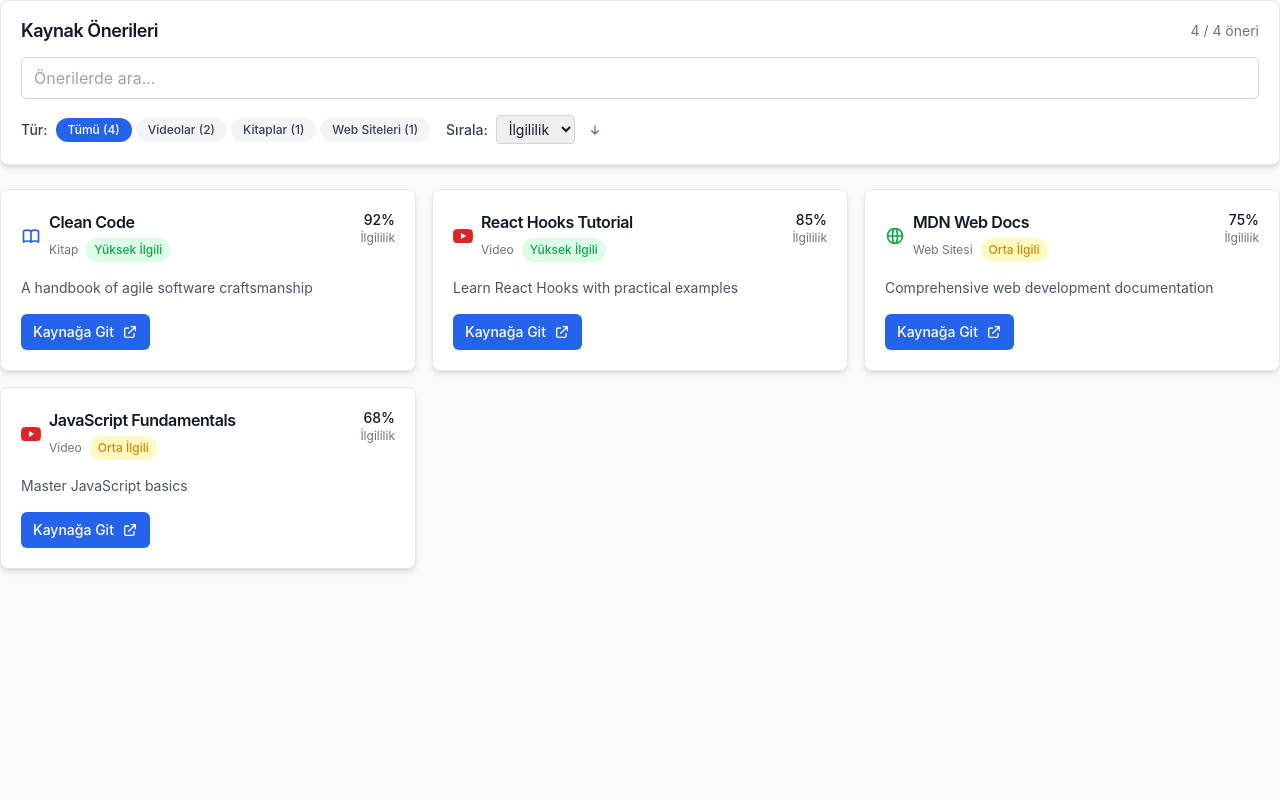
RecommendationList › clears filters when no results found
# Apply search that returns no results
Step 1. Type "nonexistent" into the field with placeholder "Önerilerde ara..." → (640, 78), box [21, 57, 1259, 99]
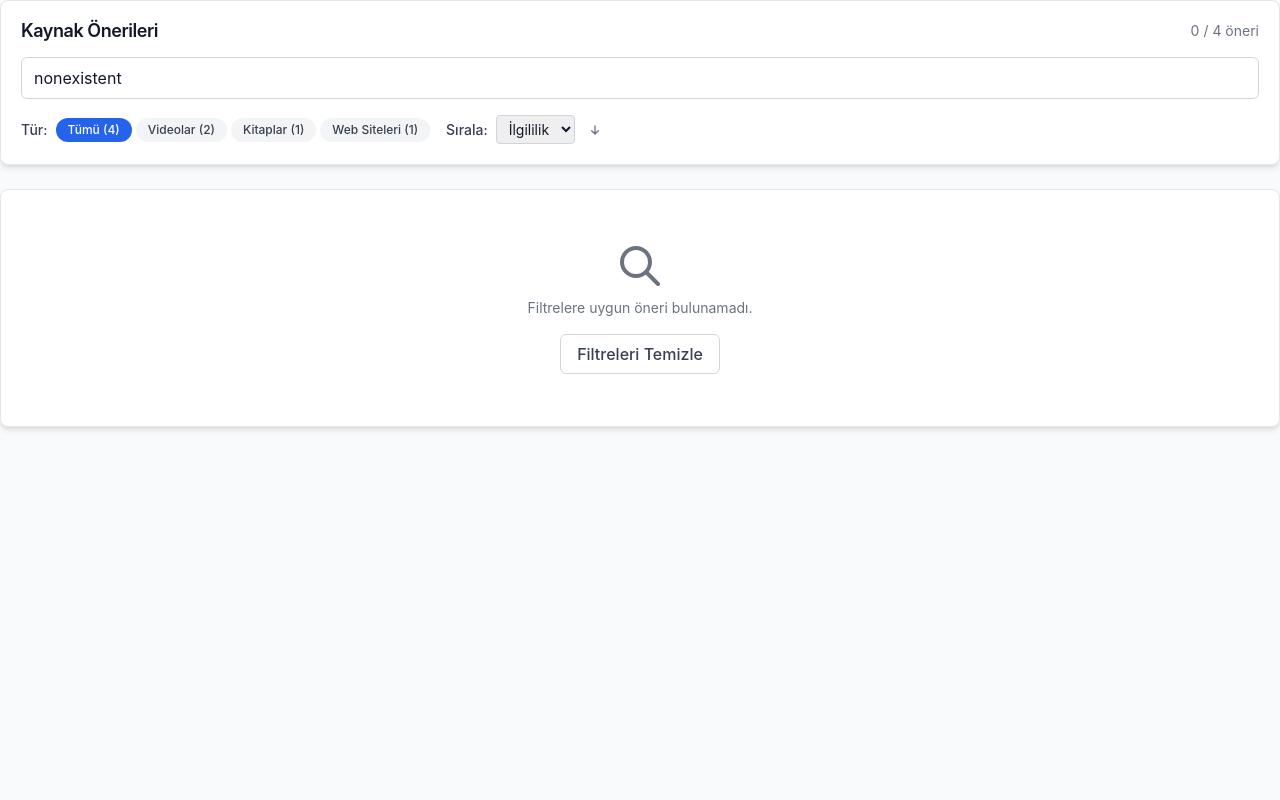
Expected: the text "Filtrelere uygun öneri bulunamadı." is shown, [528, 299, 752, 316]
# Click clear filters
Step 2. Click the button "Filtreleri Temizle" → (640, 354), box [560, 334, 720, 374]
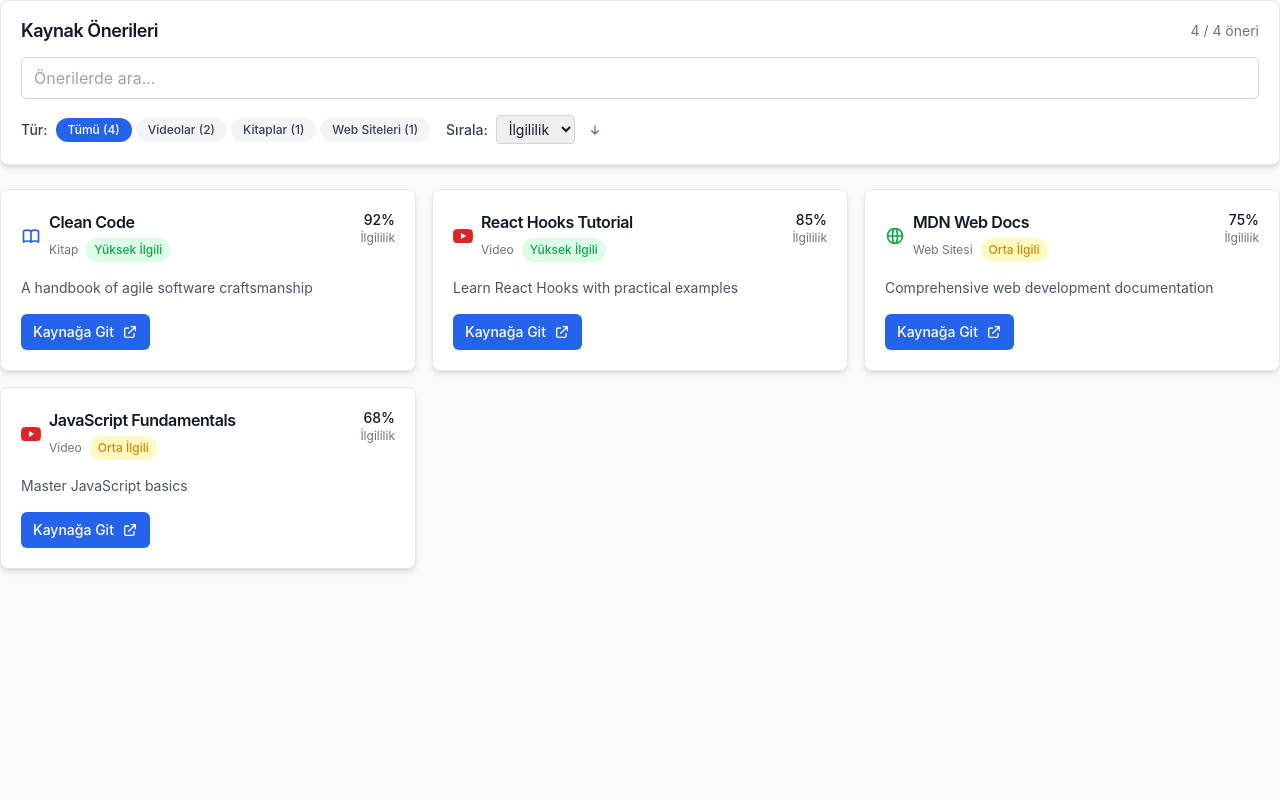
Expected: the text "4 / 4 öneri" is shown, [1190, 21, 1259, 41]
Expected: the field with placeholder "Önerilerde ara..." is empty, [21, 57, 1259, 99]
